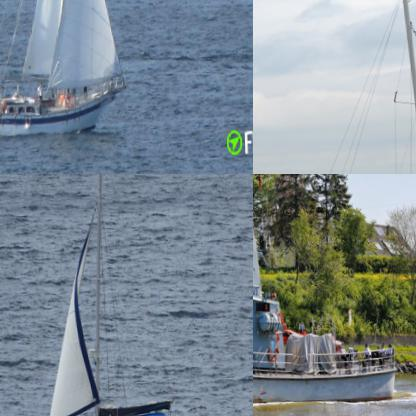Patrol Boat: (253, 174, 399, 412)
Sails Boat: (27, 174, 206, 415), (259, 0, 415, 173), (0, 0, 130, 139)
